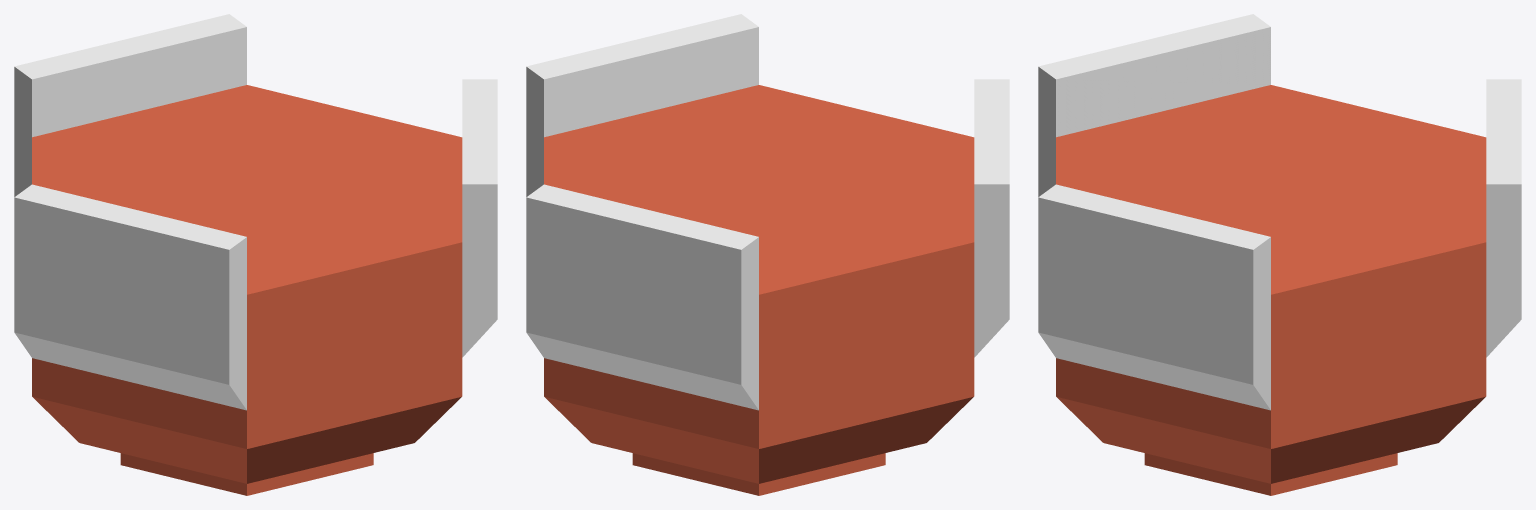
File: barrel-large.obj
3 renders of one model, left to right at view 1: azimuth 30°, elevation 25°; view 2: azimuth 150°, elevation 25°; view 3: azimuth 270°, elevation 25°, orthographic.
Visible parts, largest first — view 1: barrelLarge; view 2: barrelLarge; view 3: barrelLarge.
Boxes of the visible parts, box(x1,y1,x2,y2) form: barrelLarge: box(14, 14, 497, 495); barrelLarge: box(526, 14, 1009, 495); barrelLarge: box(1038, 14, 1521, 495).
Bounding box in the file's own units: 7.87 × 4.7 × 6.81.
